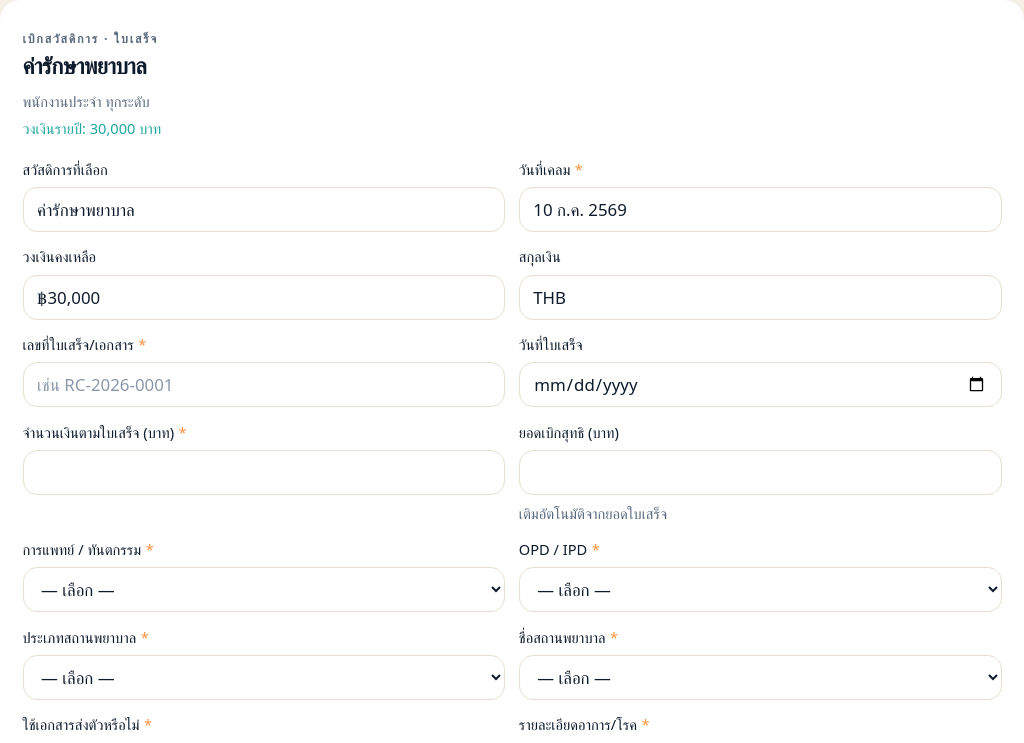
Test: STA-148 — SimpleClaimForm revisions › opens the Clinic not-allowed Modal when Type of Hospital = Clinic (req-2)
This screenshot has width=1024, height=743.
Expected: the text "ไม่สามารถเบิกค่าใช้จ่ายจากคลินิก" is not shown
Select "คลินิก" in the dropdown labelled "ประเภทสถานพยาบาล*": (264, 677) x1=22 y1=655 x2=505 y2=700
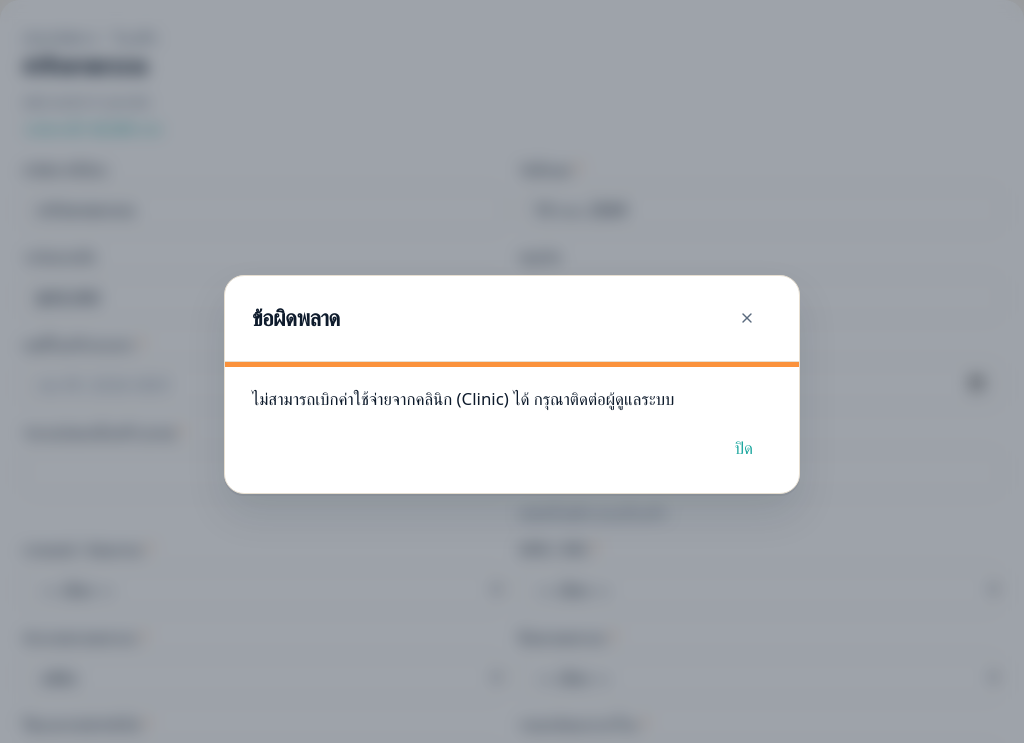
Expected: the text "ไม่สามารถเบิกค่าใช้จ่ายจากคลินิก" is shown, x1=252 y1=386 x2=674 y2=410
